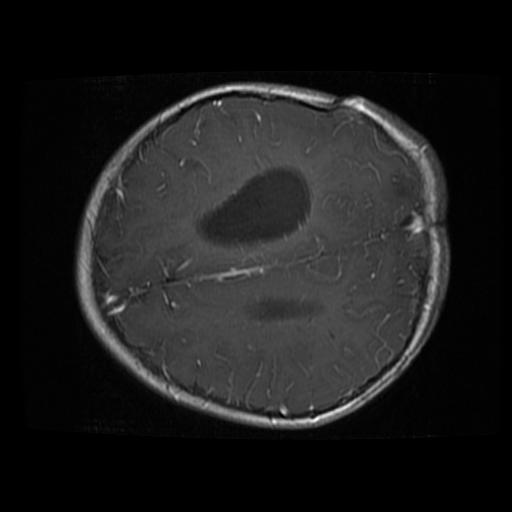glioma: (195, 162, 310, 247)
